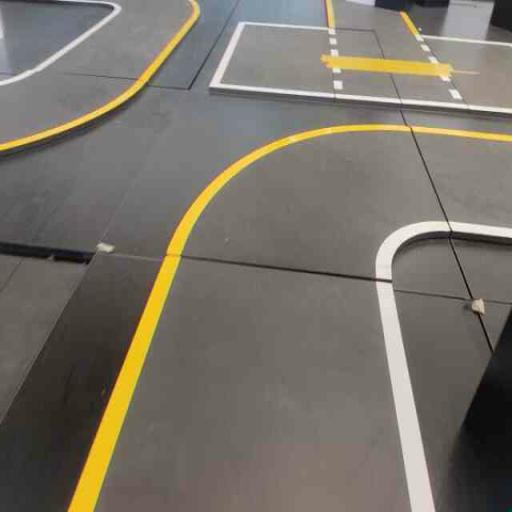right: (147, 100, 477, 305)
